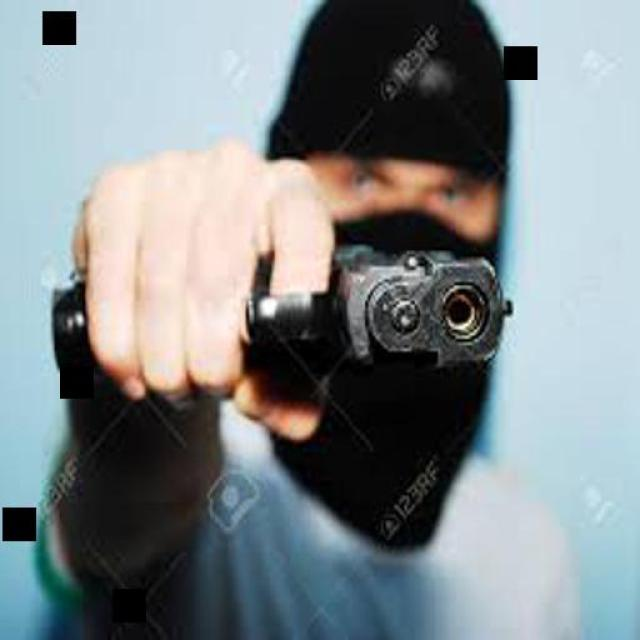gun: (55, 246, 516, 396)
